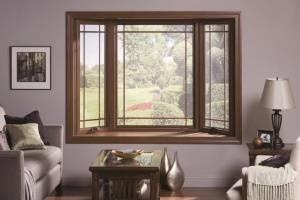window: (65, 12, 242, 143)
